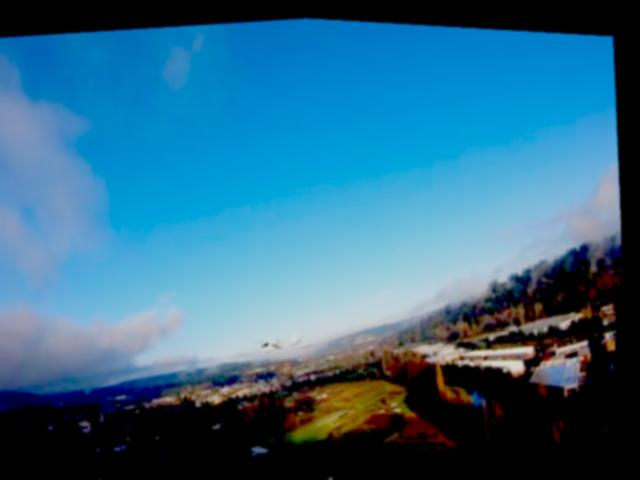uav: (248, 316, 318, 363)
